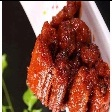hongshaodaiyu: (24, 0, 112, 112)
